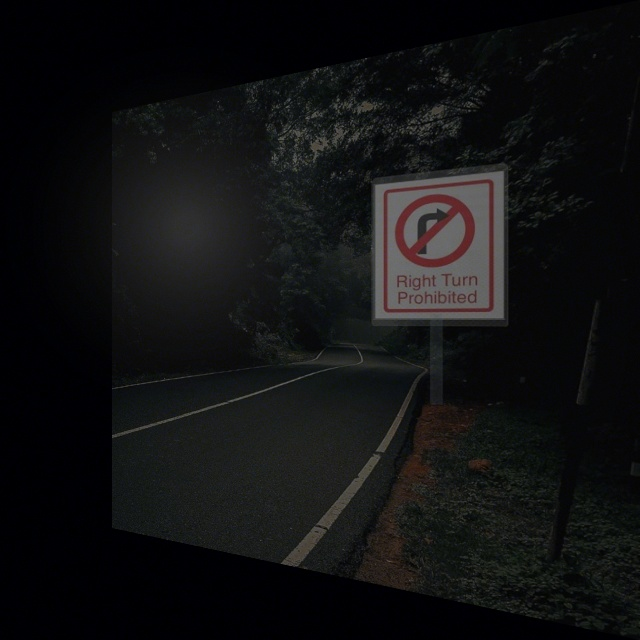Right_Turn_Prohibited: (387, 183, 488, 274)
